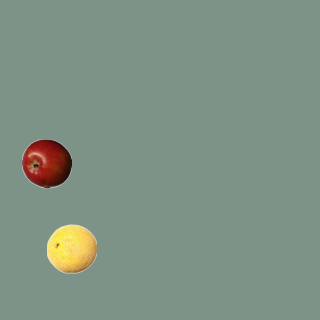Apple Braeburn: (21, 138, 71, 188)
Cantaloupe 1: (46, 223, 96, 273)
